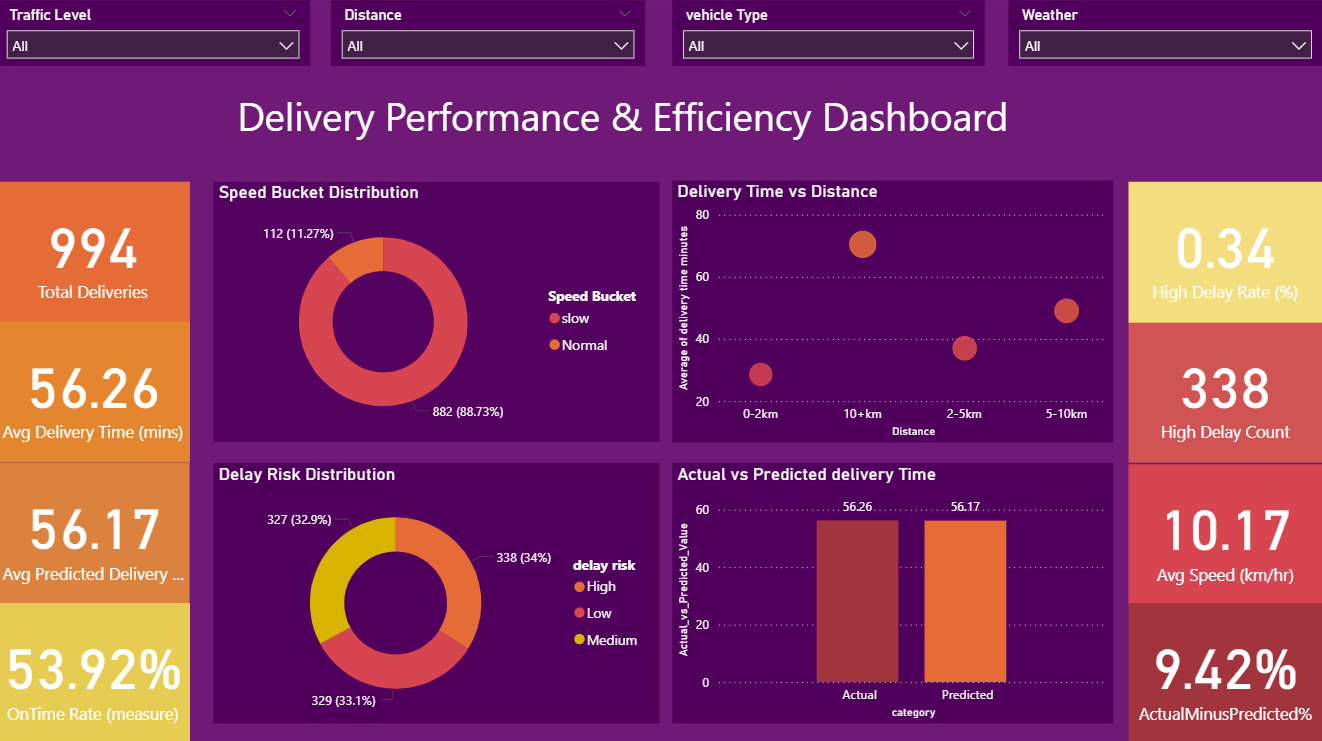

What the dashboard file says about the page in this screenshot:
{"tool":"powerbi","page":{"name":"Overview","canvas":[1280,720],"ordinal":0},"visuals":[{"type":"card","fields":{"Values":["zepto_delivery.Total Deliveries"]},"box":[0,177.1,187.1,135.7],"z":0},{"type":"card","fields":{"Values":["zepto_delivery.Avg Delivery Time (mins)"]},"box":[0,312.9,187.1,135.7],"z":1000},{"type":"card","fields":{"Values":["zepto_delivery.Avg Predicted Delivery Time"]},"box":[1.4,448.6,185.7,135.7],"z":2000},{"type":"card","fields":{"Values":["zepto_delivery.OnTime Rate (measure)"]},"box":[0,584.3,187.1,135.7],"z":3000},{"type":"card","fields":{"Values":["zepto_delivery.High Delay Count"]},"box":[1092.9,312.9,187.1,135.7],"z":4000},{"type":"card","fields":{"Values":["zepto_delivery.High Delay Rate (%)"]},"box":[1092.9,177.1,187.1,135.7],"z":5000},{"type":"card","fields":{"Values":["Traffic Impact %.Avg Speed (km/hr)"]},"box":[1092.9,450,187.1,135.7],"z":6000},{"type":"donutChart","title":"Speed Bucket Distribution","fields":{"Category":["zepto_delivery.Speed Bucket"],"Y":["CountNonNull(zepto_delivery.Order_ID)"]},"box":[210,177.1,430,251.4],"z":7000},{"type":"donutChart","title":"Delay Risk Distribution","fields":{"Category":["zepto_delivery.delay risk"],"Y":["zepto_delivery.Total Deliveries"]},"box":[210,448.6,430,251.4],"z":8000},{"type":"scatterChart","title":"Delivery Time vs Distance","fields":{"Y":["Avg(zepto_delivery.delivery time minutes)"],"X":["zepto_delivery.Distance bucket"],"Size":["Sum(zepto_delivery.abs error)"]},"box":[652.9,175.7,425.7,252.9],"z":9000},{"type":"columnChart","title":"Actual vs Predicted delivery Time","fields":{"Category":["comaprison table a/p.category"],"Y":["Actual VS Predicted.Actual_vs_Predicted_Value"]},"box":[652.9,448.6,425.7,251.4],"z":10000},{"type":"card","fields":{"Values":["Actual VS Predicted.ActualMinusPredicted (mins)"]},"box":[1092.9,584.3,187.1,135.7],"z":11000},{"type":"textbox","box":[228.6,82.9,827.1,64.3],"z":12000},{"type":"slicer","title":"Experience vs Avg Delivery Time","fields":{"Values":["zepto_delivery.Traffic Bucket"]},"box":[0,2.9,302.9,62.9],"z":13000},{"type":"slicer","title":"Experience vs Avg Delivery Time","fields":{"Values":["zepto_delivery.weather severity"]},"box":[977.1,2.9,302.9,62.9],"z":14000},{"type":"slicer","title":"Experience vs Avg Delivery Time","fields":{"Values":["zepto_delivery.Distance bucket"]},"box":[322.9,2.9,302.9,62.9],"z":15000},{"type":"slicer","title":"Experience vs Avg Delivery Time","fields":{"Values":["zepto_delivery.Vehicle Type"]},"box":[652.9,2.9,301.4,62.9],"z":16000}]}

Visuals, with their boxes in screenshot pixels (x1, y1, x2, y2), scaled from the page's 1280x720 canvas onto the 1322x741 screenshot:
card - zepto_delivery.Total Deliveries: region(0, 182, 193, 322)
card - zepto_delivery.Avg Delivery Time (mins): region(0, 322, 193, 462)
card - zepto_delivery.Avg Predicted Delivery Time: region(1, 462, 193, 601)
card - zepto_delivery.OnTime Rate (measure): region(0, 601, 193, 740)
card - zepto_delivery.High Delay Count: region(1129, 322, 1321, 462)
card - zepto_delivery.High Delay Rate (%): region(1129, 182, 1321, 322)
card - Traffic Impact %.Avg Speed (km/hr): region(1129, 463, 1321, 603)
"Speed Bucket Distribution" donutChart: region(217, 182, 661, 441)
"Delay Risk Distribution" donutChart: region(217, 462, 661, 720)
"Delivery Time vs Distance" scatterChart: region(674, 181, 1114, 441)
"Actual vs Predicted delivery Time" columnChart: region(674, 462, 1114, 720)
card - Actual VS Predicted.ActualMinusPredicted (mins): region(1129, 601, 1321, 740)
textbox: region(236, 85, 1090, 151)
"Experience vs Avg Delivery Time" slicer: region(0, 3, 313, 68)
"Experience vs Avg Delivery Time" slicer: region(1009, 3, 1321, 68)
"Experience vs Avg Delivery Time" slicer: region(333, 3, 646, 68)
"Experience vs Avg Delivery Time" slicer: region(674, 3, 986, 68)
